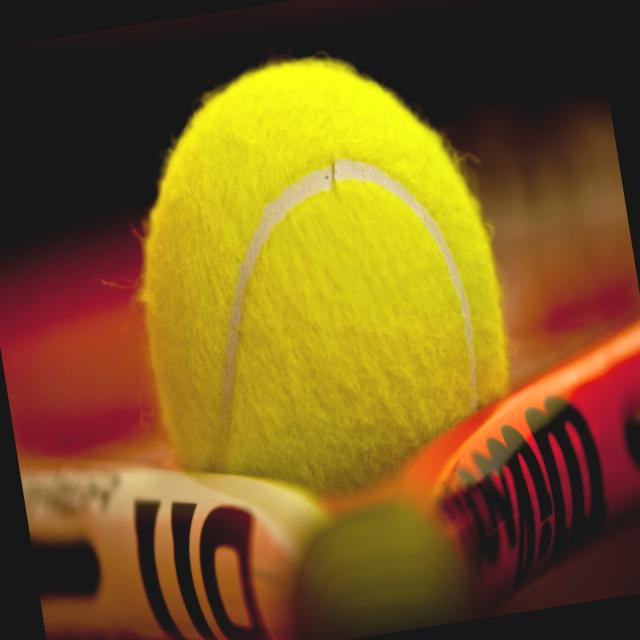Tennis ball: (107, 31, 530, 520)
